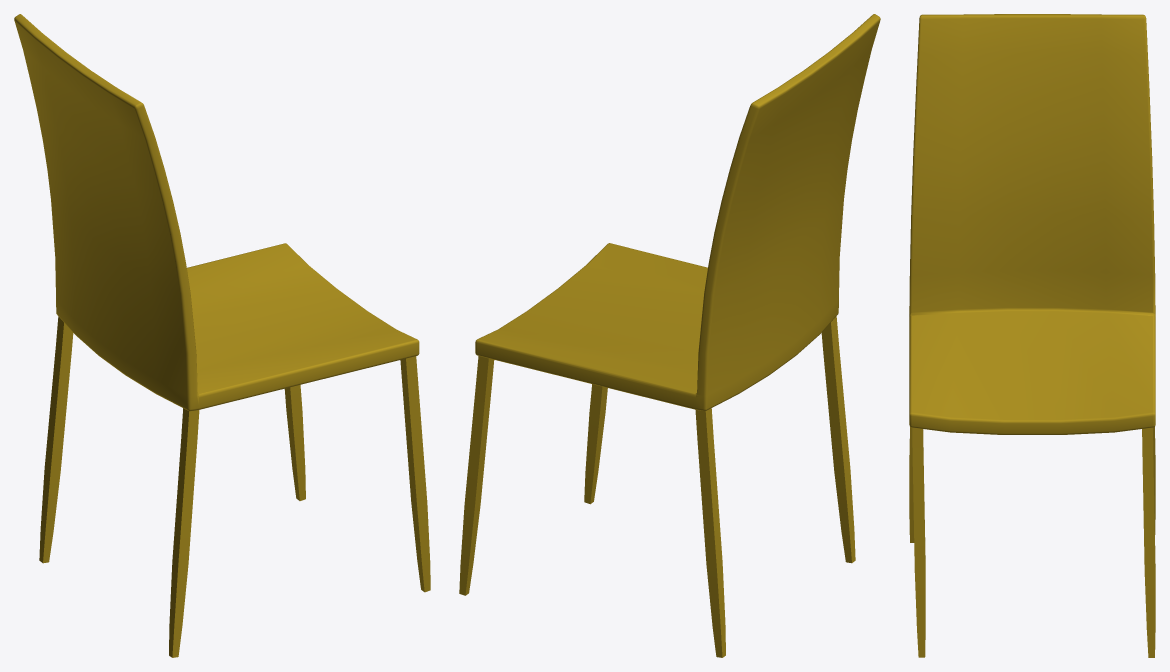
File: Chair.obj
The picture shows the model from 3 angles, left to right: view 1: azimuth 30°, elevation 25°; view 2: azimuth 150°, elevation 25°; view 3: azimuth 270°, elevation 25°; orthographic projection. The views are drawn at different scales.
Visible parts, largest first — view 1: Chair; view 2: Chair; view 3: Chair.
Part boxes in pixels (<box>): Chair: <box>14,14,430,657</box>; Chair: <box>459,14,880,657</box>; Chair: <box>909,14,1155,657</box>.
Size of the model in its own units: 58.02 by 104 by 45.
